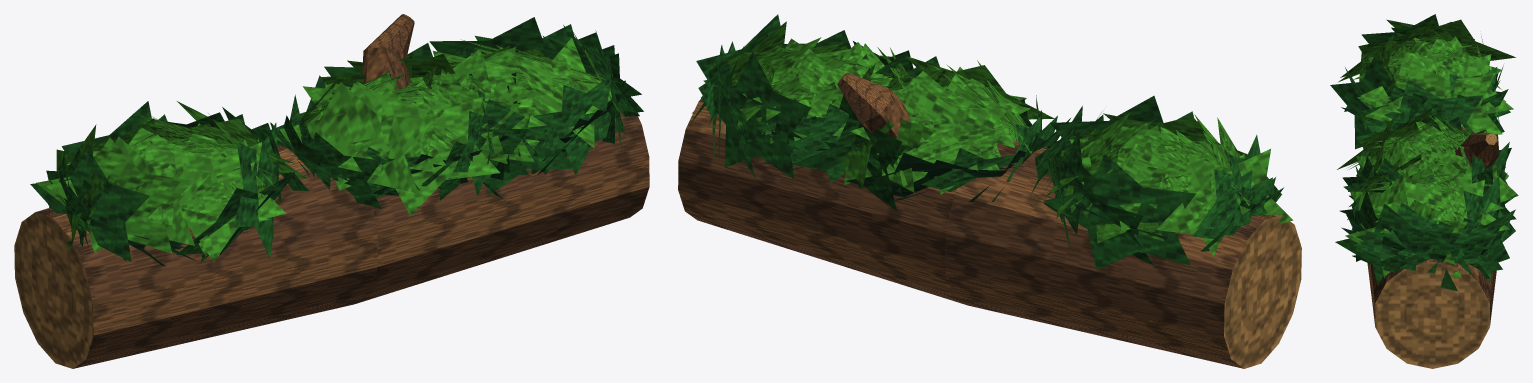
Rendered from SM_Woodland_FallenLog.fbx.
The picture shows the model from 3 angles, left to right: view 1: azimuth 30°, elevation 25°; view 2: azimuth 150°, elevation 25°; view 3: azimuth 270°, elevation 25°; orthographic projection. The views are drawn at different scales.
Visible parts, largest first — view 1: SM_Woodland_FallenLog; view 2: SM_Woodland_FallenLog; view 3: SM_Woodland_FallenLog.
Boxes of the visible parts, x1,y1,x2,y2 form: SM_Woodland_FallenLog: (14,14,649,368); SM_Woodland_FallenLog: (678,14,1301,368); SM_Woodland_FallenLog: (1330,14,1518,368).
Bounding box in the file's own units: 207 × 73.84 × 78.95.
Materials: 1 (1 with a texture image).
